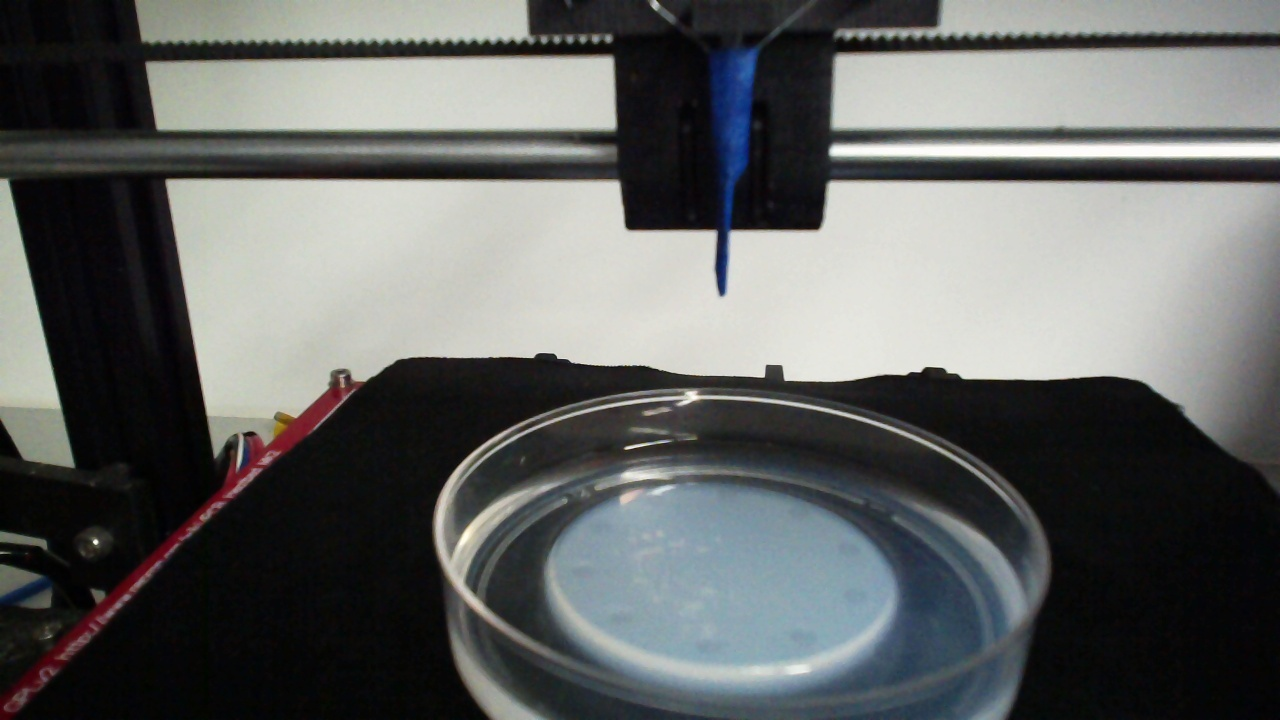groove: (695, 636, 729, 659), (600, 610, 633, 631), (584, 518, 618, 538), (568, 560, 597, 582), (842, 585, 870, 607), (784, 502, 813, 523), (836, 541, 864, 562), (788, 628, 818, 647), (714, 485, 742, 504)
needle: (715, 49, 760, 296)
